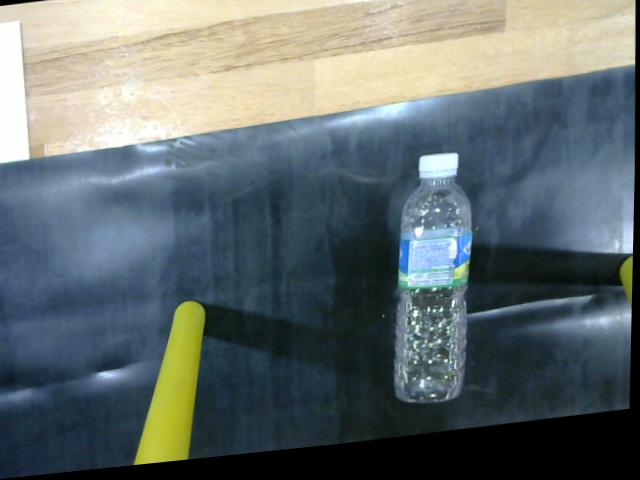bottle: (391, 156, 482, 419)
